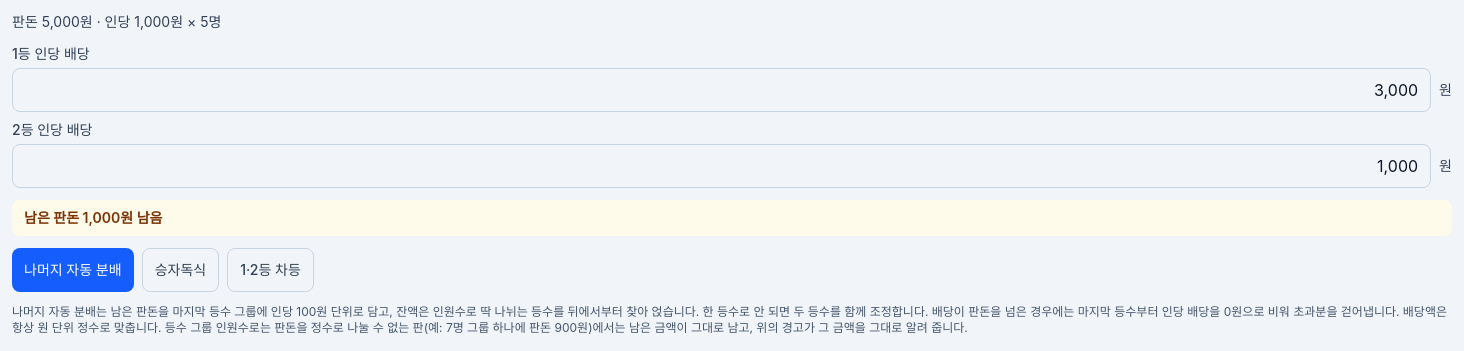
Test: PayoutEditor › "나머지 자동 분배" 클릭 후 imbalance가 정확히 0이 된다
The width and height of the screenshot is (1464, 351).
Click the button "나머지 자동 분배" at (73, 270), box left=12, top=248, right=134, bottom=292
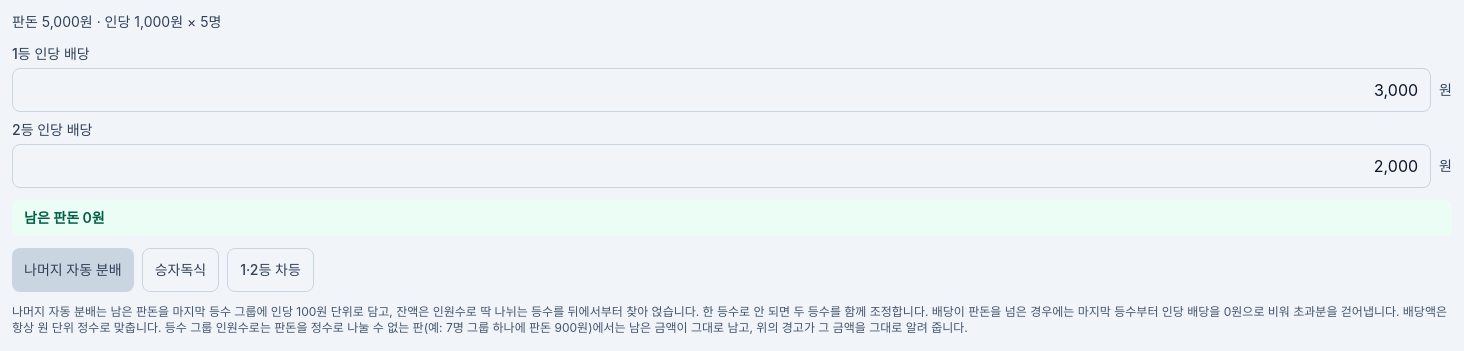
expect the text "남은 판돈 0원" is shown: met, box left=12, top=200, right=1452, bottom=236
